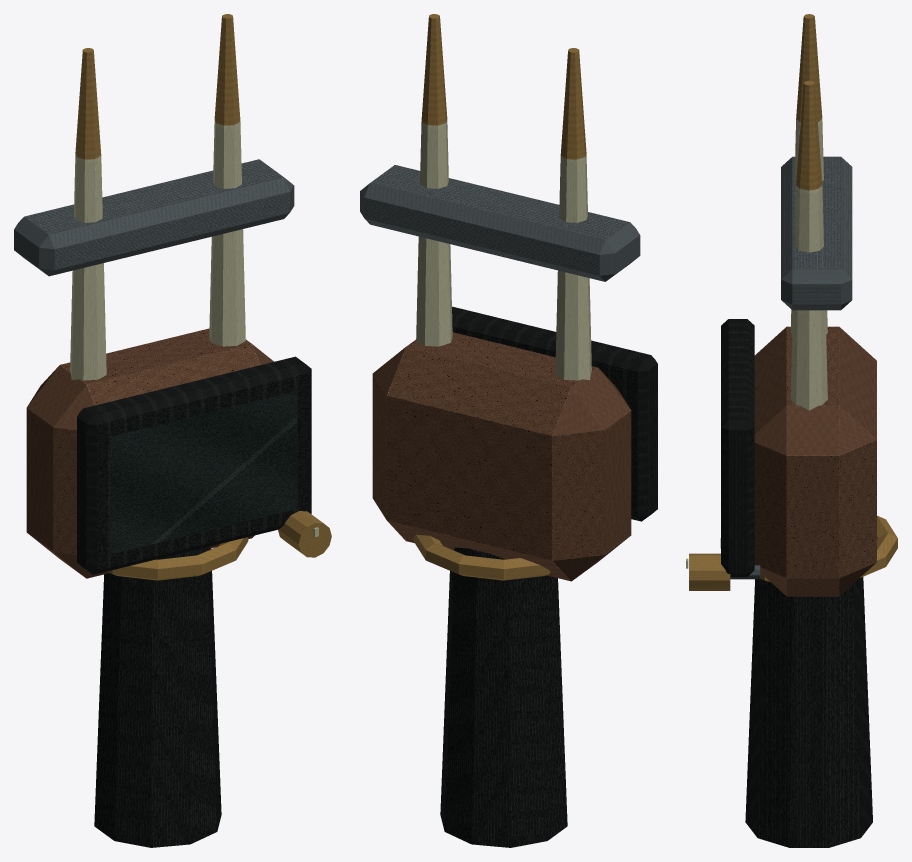
The model's file is blender_ward_stability_probe_2.glb.
The picture shows the model from 3 angles, left to right: view 1: azimuth 30°, elevation 25°; view 2: azimuth 150°, elevation 25°; view 3: azimuth 270°, elevation 25°; orthographic projection.
Parts seen in each view (by area): view 1: blender_ward_stability_probe_2; view 2: blender_ward_stability_probe_2; view 3: blender_ward_stability_probe_2.
Boxes of the visible parts, left/top/right/bottom form: blender_ward_stability_probe_2: left=14, top=14, right=331, bottom=847; blender_ward_stability_probe_2: left=360, top=14, right=657, bottom=847; blender_ward_stability_probe_2: left=686, top=14, right=897, bottom=847.
Bounding box in the file's own units: 0.077 × 0.227 × 0.0564.
6 materials, 6 textured.
